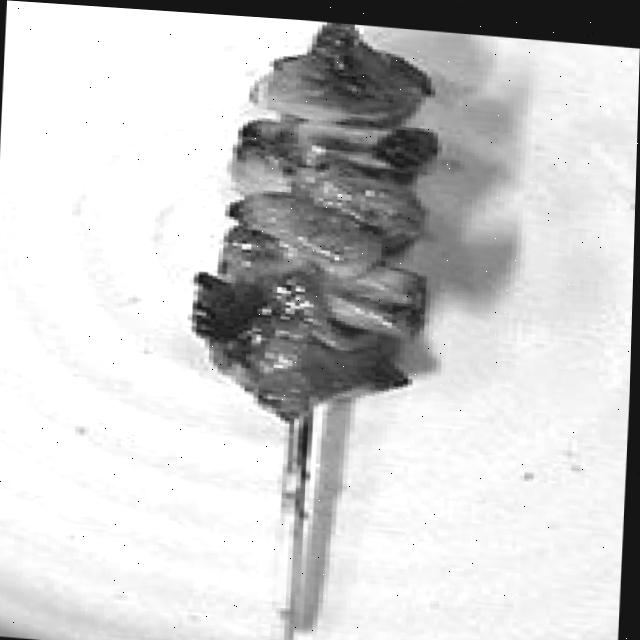烧串烤肉: (155, 9, 469, 640)
